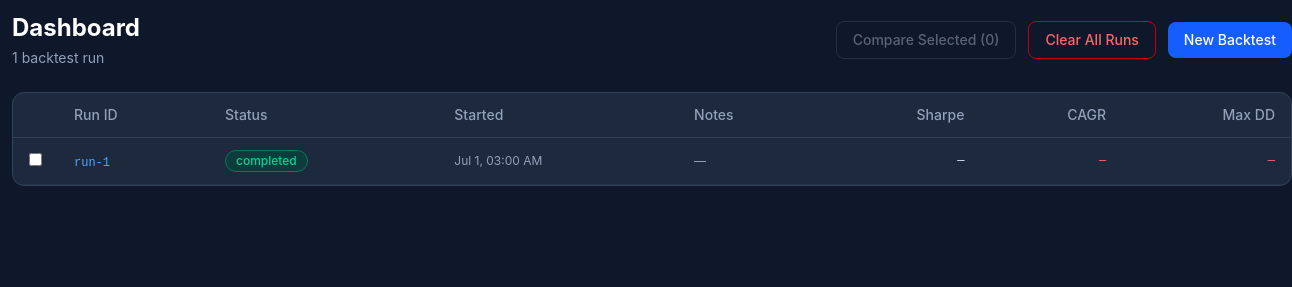
Scenario: Dashboard › clears all runs after confirming
Expected: the text "1 backtest run" is shown, [12,49,104,66]
Click the button "Clear All Runs": (1092, 40) [1028,21,1156,59]
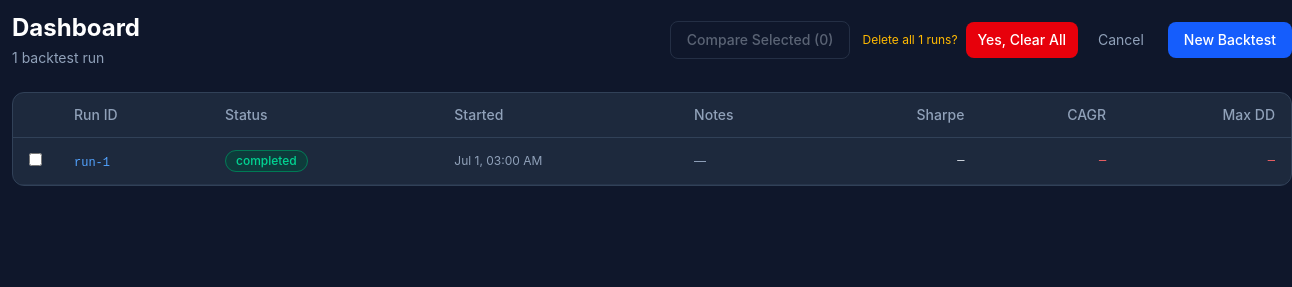
Expected: the text "Delete all 1 runs?" is shown, [862,32,958,48]
Click the button "Yes, Clear All": (1022, 40) [966,22,1078,58]
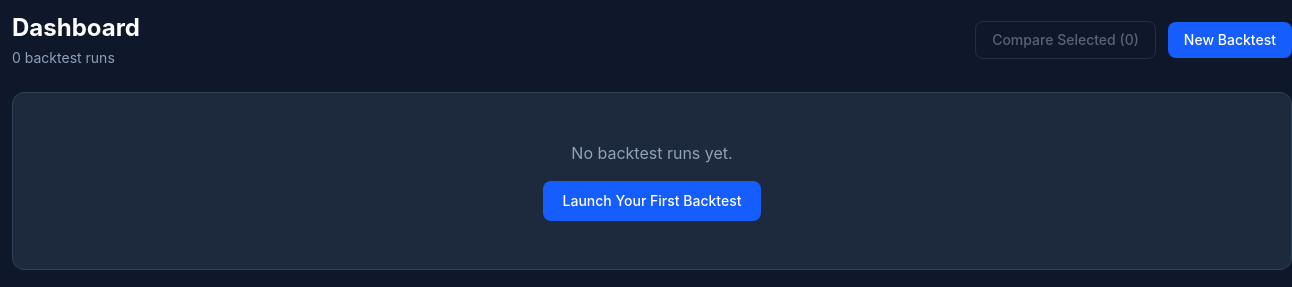
Expected: the text "No backtest runs yet." is shown, [571,143,733,163]
